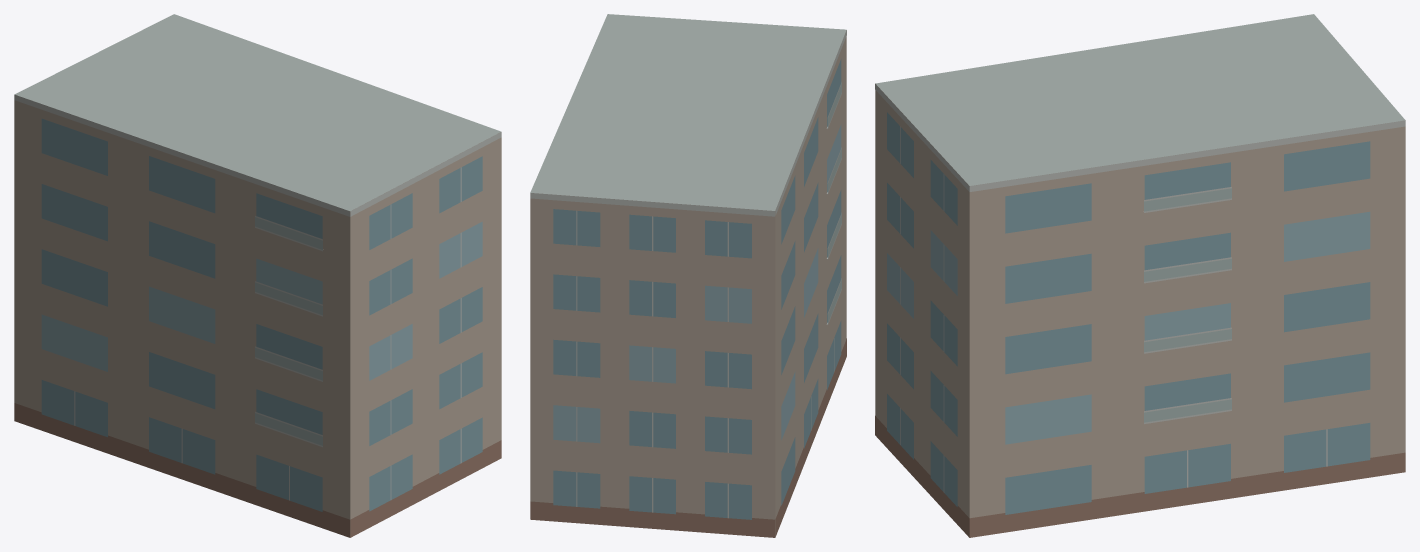
The model's file is survey-upis-32941862.glb.
3 views of the same model, side by side, from view 1: azimuth 30°, elevation 25°; view 2: azimuth 150°, elevation 25°; view 3: azimuth 270°, elevation 25° (orthographic). The views are drawn at different scales.
Visible parts, largest first — view 1: survey-upis-32941862.tmp; view 2: survey-upis-32941862.tmp; view 3: survey-upis-32941862.tmp.
Part boxes in pixels (<box>): survey-upis-32941862.tmp: <box>14,14,501,537</box>; survey-upis-32941862.tmp: <box>530,14,846,537</box>; survey-upis-32941862.tmp: <box>875,14,1405,537</box>.
Bounding box in the file's own units: 14.8 × 14.1 × 19.28.
